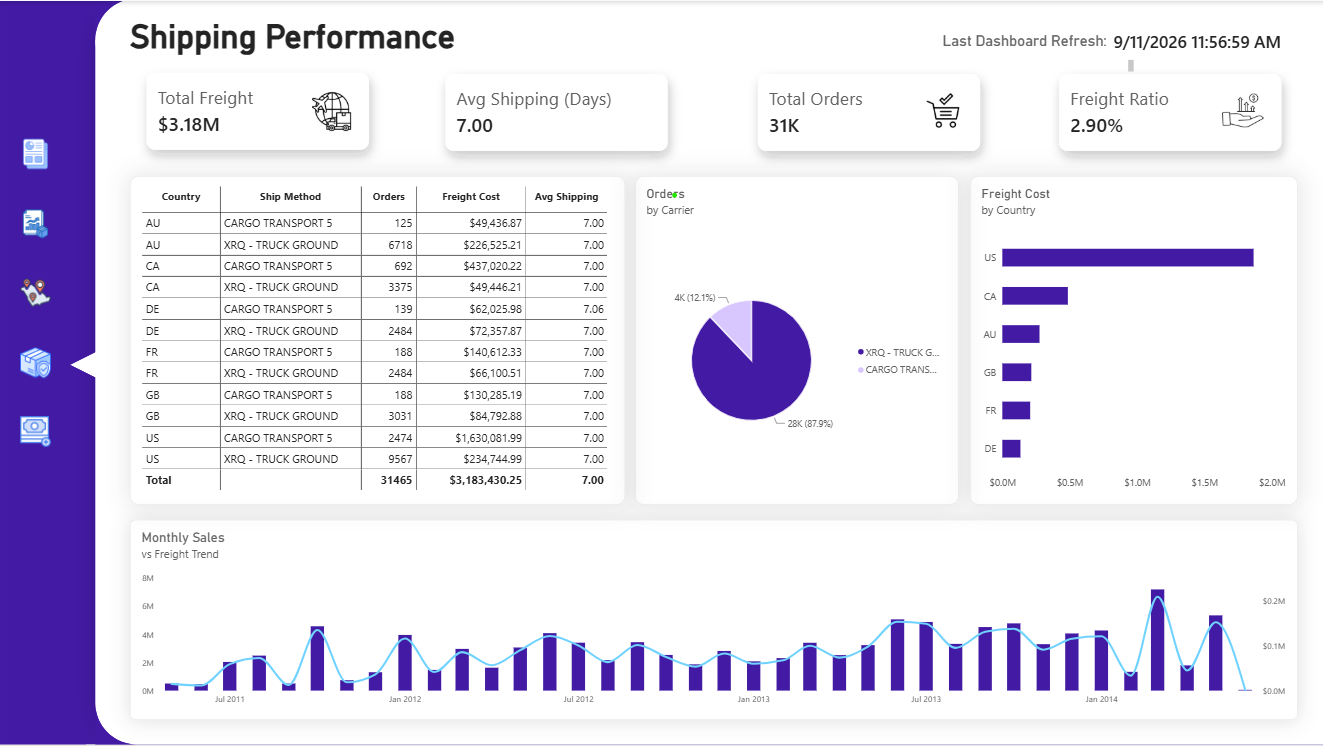

Layout of this report page (visuals, bound fields, positions):
{"tool":"powerbi","page":{"name":"Shipping Performance","canvas":[1920,1080],"ordinal":3},"visuals":[{"type":"cardVisual","fields":{"Data":["DAX_Measures.Total Orders"]},"box":[1073.1,80.5,370,160],"z":0},{"type":"cardVisual","fields":{"Data":["DAX_Measures.Total Freight"]},"box":[188.2,79.6,370,160.3],"z":1000},{"type":"cardVisual","fields":{"Data":["DAX_Measures.Avg Shipping Delay"]},"box":[620.7,80.5,370,160],"z":2000},{"type":"cardVisual","fields":{"Data":["DAX_Measures.Freight Ratio %"]},"box":[1509.3,81.4,370,160],"z":3000},{"type":"lineClusteredColumnComboChart","title":"Monthly Sales ","fields":{"Category":["Orders.OrderMonthDate"],"Y":["DAX_Measures.Total Sales"],"Y2":["DAX_Measures.Total Freight"]},"box":[188.2,751,1690.2,289.5],"z":4000},{"type":"pieChart","title":"Orders ","fields":{"Category":["ShipMethod.Name"],"Y":["DAX_Measures.Total Orders"]},"box":[919.3,253.4,468.7,475.9],"z":5000},{"type":"clusteredBarChart","title":"Freight Cost","fields":{"Category":["Territories.CountryRegionCode"],"Y":["DAX_Measures.Total Freight"]},"box":[1404.3,253.4,474.1,475.9],"z":6000},{"type":"tableEx","fields":{"Values":["Territories.CountryRegionCode","ShipMethod.Name","DAX_Measures.Total Orders","DAX_Measures.Total Freight","DAX_Measures.Avg Shipping Delay"]},"box":[188.2,253.4,716.6,475.9],"z":7000},{"type":"image","box":[29,199.1,45,45],"z":8000},{"type":"image","box":[29,299.5,45,45],"z":9000},{"type":"image","box":[29,399.9,45,45],"z":10000},{"type":"image","box":[29,500.4,45,45],"z":11000},{"type":"image","box":[29,600.8,45,45],"z":12000},{"type":"textbox","title":"Shipping Performance","box":[188.2,23.5,693.1,56.1],"z":13000},{"type":"textbox","title":"Last Dashboard Refresh:","box":[1364.5,45.2,276.9,57.9],"z":14000},{"type":"cardVisual","fields":{"Data":["DAX_Measures.System Time"]},"box":[1596.1,43.4,323.9,30.8],"z":15000},{"type":"shape","box":[101.3,506.7,40,40],"z":15001},{"type":"image","box":[439.7,130.3,80,60],"z":15002},{"type":"image","box":[1324.7,128.5,80,60],"z":15003},{"type":"image","box":[1759,128.5,80,60],"z":15004}]}

Visuals, with their boxes on the page's 1920x1080 design canvas (x1, y1, x2, y2). These are canvas units, not pixel positions in the 1323x746 screenshot, which may show the page scaled, cropped or inside an application window:
cardVisual - DAX_Measures.Total Orders: l=1073, t=80, r=1443, b=240
cardVisual - DAX_Measures.Total Freight: l=188, t=80, r=558, b=240
cardVisual - DAX_Measures.Avg Shipping Delay: l=621, t=80, r=991, b=240
cardVisual - DAX_Measures.Freight Ratio %: l=1509, t=81, r=1879, b=241
"Monthly Sales " lineClusteredColumnComboChart: l=188, t=751, r=1878, b=1040
"Orders " pieChart: l=919, t=253, r=1388, b=729
"Freight Cost" clusteredBarChart: l=1404, t=253, r=1878, b=729
tableEx - Territories.CountryRegionCode x ShipMethod.Name: l=188, t=253, r=905, b=729
image: l=29, t=199, r=74, b=244
image: l=29, t=300, r=74, b=344
image: l=29, t=400, r=74, b=445
image: l=29, t=500, r=74, b=545
image: l=29, t=601, r=74, b=646
"Shipping Performance" textbox: l=188, t=24, r=881, b=80
"Last Dashboard Refresh:" textbox: l=1364, t=45, r=1641, b=103
cardVisual - DAX_Measures.System Time: l=1596, t=43, r=1920, b=74
shape: l=101, t=507, r=141, b=547
image: l=440, t=130, r=520, b=190
image: l=1325, t=128, r=1405, b=188
image: l=1759, t=128, r=1839, b=188
